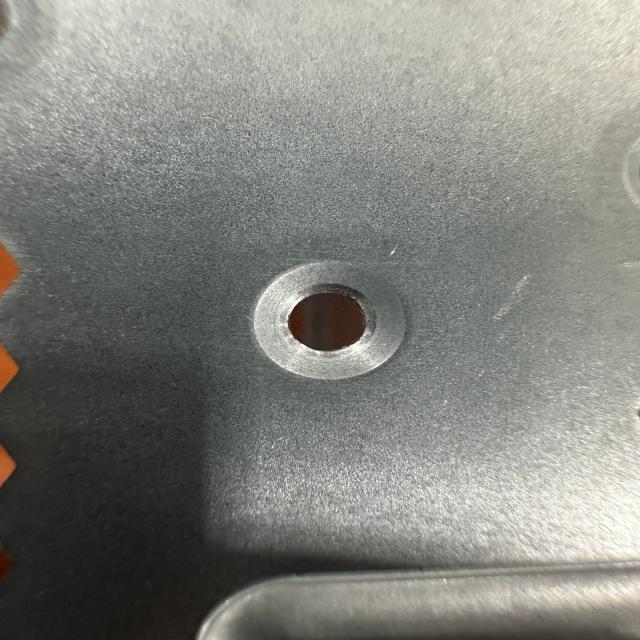Missing screw: (228, 250, 424, 394)
